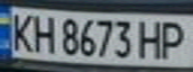3: (112, 17, 136, 59)
6: (78, 16, 96, 57)
7: (93, 16, 115, 58)
8: (57, 15, 81, 56)
H: (136, 17, 166, 60), (27, 11, 57, 54)
K: (3, 10, 36, 53)
P: (157, 18, 190, 60)
